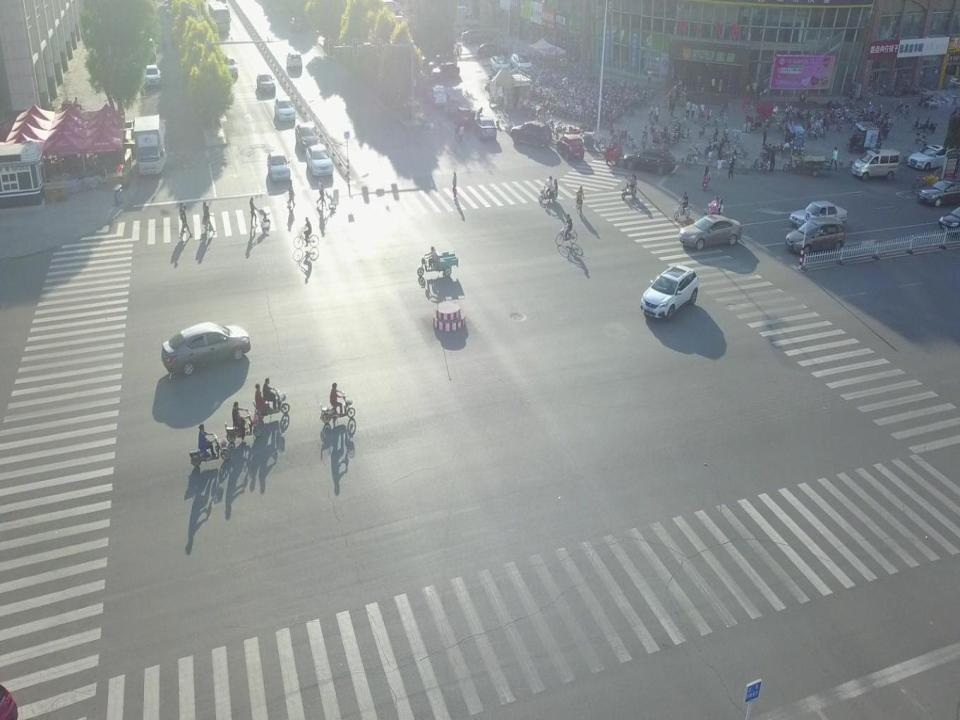bus: (207, 1, 232, 35)
car: (160, 322, 252, 376), (640, 264, 700, 320), (783, 216, 846, 256), (678, 213, 742, 250), (788, 200, 849, 230), (623, 145, 676, 176), (917, 178, 960, 208), (907, 144, 954, 171), (509, 120, 549, 150), (305, 144, 334, 177), (554, 133, 585, 163), (266, 150, 291, 180), (294, 122, 320, 150), (474, 115, 497, 143), (938, 206, 960, 234), (431, 61, 460, 81), (274, 96, 296, 121), (510, 52, 534, 74), (475, 42, 507, 58), (460, 26, 488, 44), (143, 63, 162, 88), (256, 72, 276, 95), (455, 106, 473, 131), (489, 54, 510, 74), (220, 55, 238, 77), (428, 87, 447, 107), (284, 51, 303, 71)
truck: (134, 113, 166, 177), (439, 4, 479, 30)
van: (851, 146, 901, 181)
